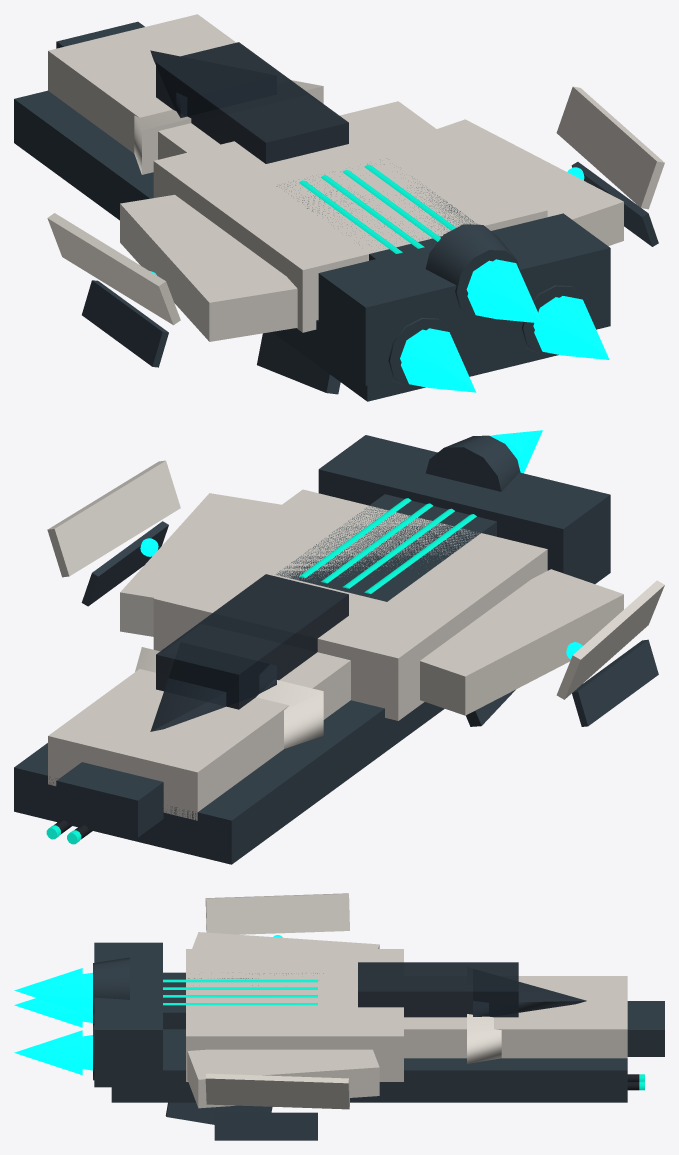
Rendered from starfighter.glb.
3 views of the same model, one above another, from view 1: azimuth 30°, elevation 25°; view 2: azimuth 150°, elevation 25°; view 3: azimuth 270°, elevation 25° (orthographic). The views are drawn at different scales.
Parts seen in each view (by area): view 1: Starfighter, floatingFinLeft, floatingFinRight; view 2: Starfighter, floatingFinRight, floatingFinLeft; view 3: Starfighter, floatingFinRight, floatingFinLeft.
Boxes of the visible parts, <box> form: Starfighter: <box>14,14,623,401</box>; floatingFinLeft: <box>47,213,180,367</box>; floatingFinRight: <box>556,86,664,246</box>; Starfighter: <box>14,430,623,864</box>; floatingFinRight: <box>47,460,180,606</box>; floatingFinLeft: <box>556,580,664,726</box>; Starfighter: <box>14,932,664,1124</box>; floatingFinRight: <box>205,1073,349,1140</box>; floatingFinLeft: <box>205,893,349,937</box>.
Bounding box in the file's own units: 7.84 × 2.62 × 11.35.
